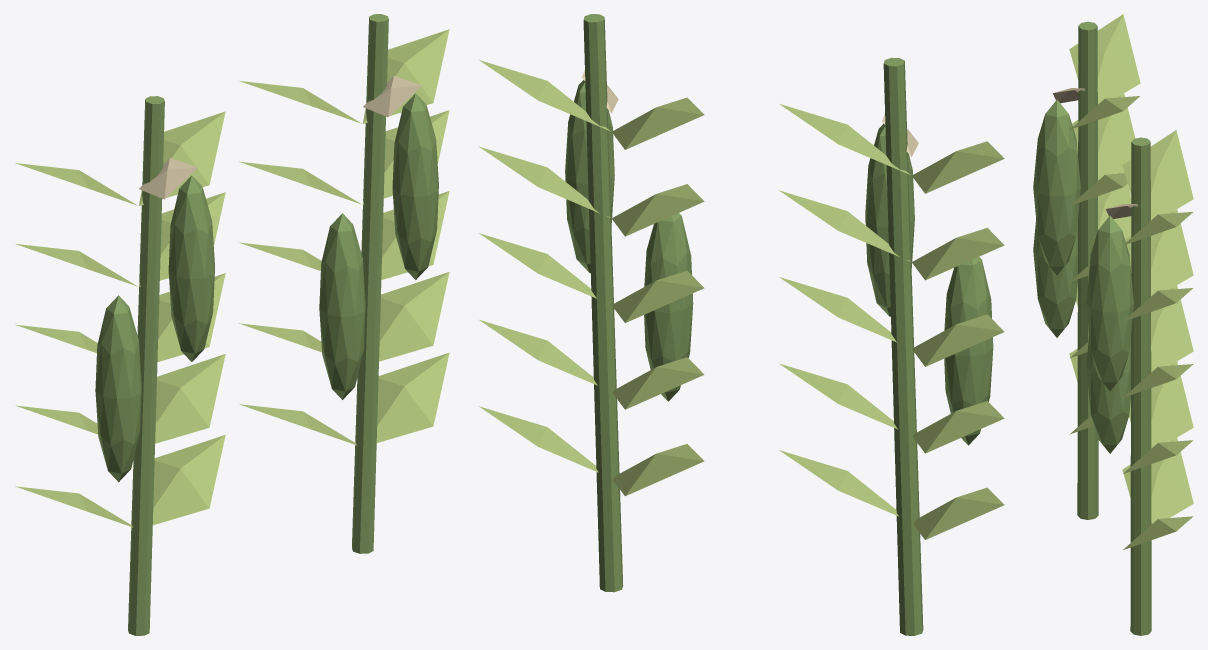
The picture shows the model from 3 angles, left to right: view 1: azimuth 30°, elevation 25°; view 2: azimuth 150°, elevation 25°; view 3: azimuth 270°, elevation 25°; orthographic projection. The views are drawn at different scales.
Visible parts, largest first — view 1: GF-033 Broad bean stand batched; view 2: GF-033 Broad bean stand batched; view 3: GF-033 Broad bean stand batched.
Part boxes in pixels (x1,y1,x2,y2): GF-033 Broad bean stand batched: (15,14,449,635); GF-033 Broad bean stand batched: (479,14,1004,635); GF-033 Broad bean stand batched: (1033,14,1193,635).
Bounding box in the file's own units: 0.57 × 0.6207 × 0.1816.
